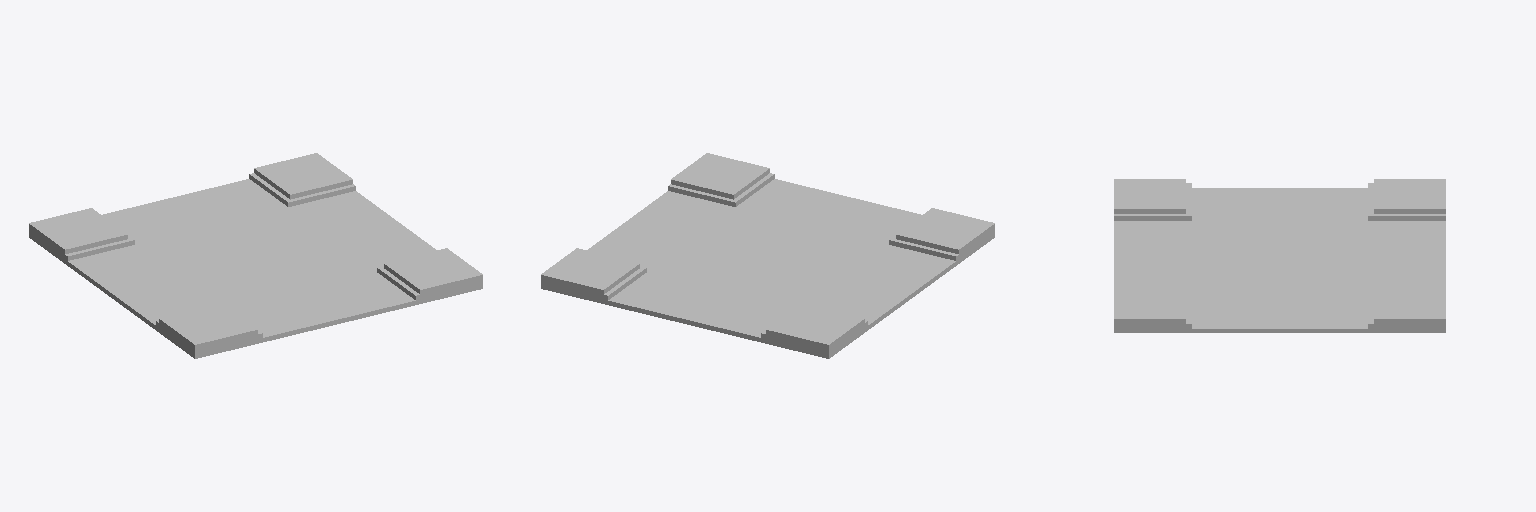
The model's file is road_intersection_4.obj.
3 renders of one model, left to right at view 1: azimuth 30°, elevation 25°; view 2: azimuth 150°, elevation 25°; view 3: azimuth 270°, elevation 25°, orthographic.
Parts seen in each view (by area): view 1: object 1; view 2: object 1; view 3: object 1.
Boxes of the visible parts, x1=… form: object 1: x1=29, y1=153, x2=482, y2=358; object 1: x1=541, y1=153, x2=994, y2=358; object 1: x1=1114, y1=179, x2=1445, y2=332.
Bounding box in the file's own units: 6.4 × 0.3 × 6.4.